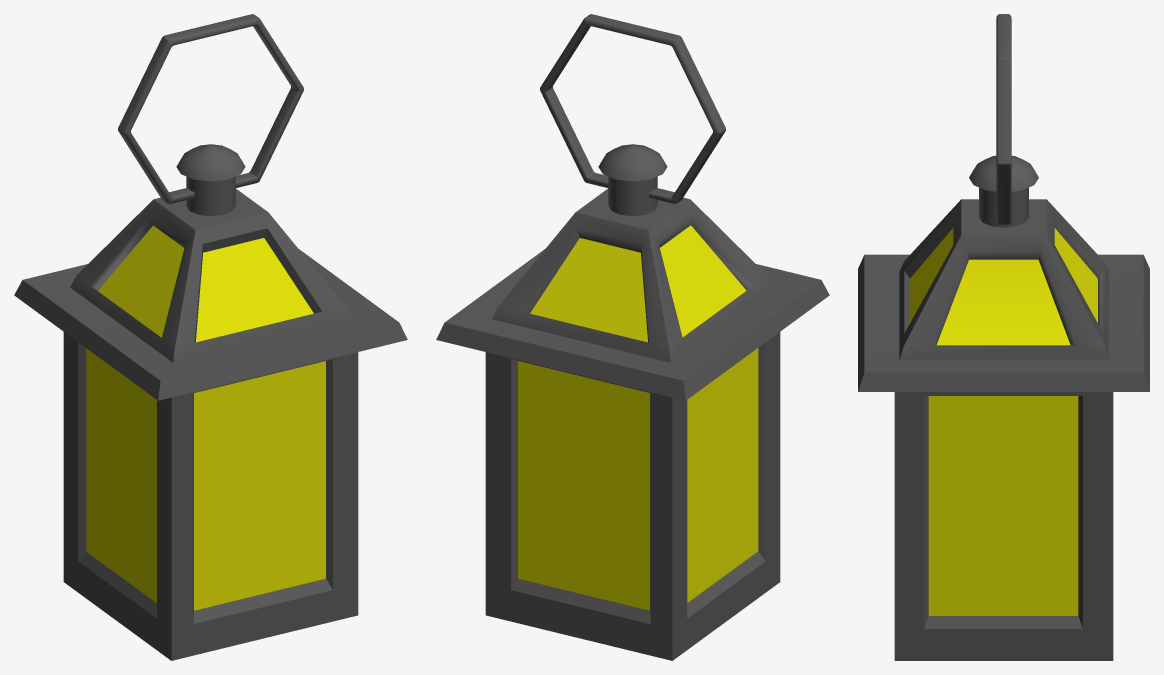
File: Lantern_Persefone.fbx
The picture shows the model from 3 angles, left to right: view 1: azimuth 30°, elevation 25°; view 2: azimuth 150°, elevation 25°; view 3: azimuth 270°, elevation 25°; orthographic projection.
Parts seen in each view (by area): view 1: Lantern_Persefone1; view 2: Lantern_Persefone1; view 3: Lantern_Persefone1.
Boxes of the visible parts, x1,y1,x2,y2 form: Lantern_Persefone1: (14, 14, 407, 660); Lantern_Persefone1: (436, 14, 829, 660); Lantern_Persefone1: (858, 14, 1149, 660).
Bounding box in the file's own units: 23.45 × 51.34 × 23.45.
